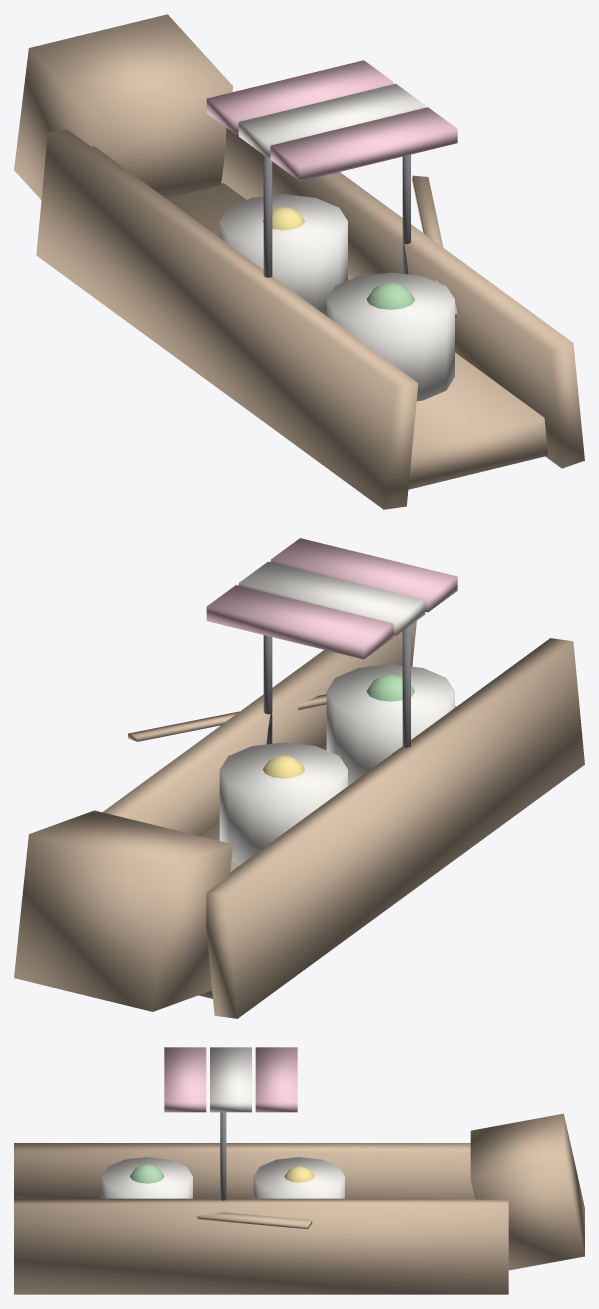
Rendered from floating_market_lv1.glb.
3 renders of one model, top to bottom at view 1: azimuth 30°, elevation 25°; view 2: azimuth 150°, elevation 25°; view 3: azimuth 270°, elevation 25°, orthographic. The views are drawn at different scales.
Visible parts, largest first — view 1: canoe1_wall_l, canoe1_bow, canoe1_wall_r, canoe1_floor, canoe1_bsk1, canoe1_bsk2, canoe1_shade_str_0, canoe1_shade_str_2, canoe1_shade_str_1, canoe1_shade_p1, canoe1_paddle, canoe1_frt1 (+2 smaller); view 2: canoe1_wall_l, canoe1_bow, canoe1_wall_r, canoe1_bsk2, canoe1_bsk1, canoe1_shade_str_2, canoe1_shade_str_1, canoe1_shade_str_0, canoe1_paddle, canoe1_shade_p1, canoe1_shade_p2, canoe1_frt1 (+1 smaller); view 3: canoe1_wall_r, canoe1_wall_l, canoe1_bow, canoe1_bsk2, canoe1_bsk1, canoe1_shade_str_0, canoe1_shade_str_2, canoe1_shade_str_1, canoe1_paddle, canoe1_shade_p2, canoe1_frt1, canoe1_frt2.
Boxes of the visible parts, x1,y1,x2,y2 form: canoe1_wall_l: [36, 129, 418, 509]; canoe1_bow: [14, 14, 233, 199]; canoe1_wall_r: [221, 128, 584, 468]; canoe1_floor: [166, 183, 548, 489]; canoe1_bsk1: [326, 272, 454, 401]; canoe1_bsk2: [219, 194, 347, 315]; canoe1_shade_str_0: [270, 107, 457, 181]; canoe1_shade_str_2: [206, 60, 393, 134]; canoe1_shade_str_1: [238, 83, 425, 157]; canoe1_shade_p1: [263, 155, 272, 277]; canoe1_paddle: [412, 175, 457, 316]; canoe1_frt1: [366, 282, 414, 309]; canoe1_wall_l: [206, 638, 584, 1018]; canoe1_bow: [14, 810, 232, 1011]; canoe1_wall_r: [103, 621, 416, 836]; canoe1_bsk2: [219, 742, 347, 865]; canoe1_bsk1: [326, 664, 454, 785]; canoe1_shade_str_2: [206, 585, 393, 659]; canoe1_shade_str_1: [238, 561, 425, 635]; canoe1_shade_str_0: [270, 538, 457, 612]; canoe1_paddle: [128, 694, 326, 741]; canoe1_shade_p1: [402, 625, 410, 747]; canoe1_shade_p2: [263, 635, 272, 744]; canoe1_frt1: [366, 674, 414, 701]; canoe1_wall_r: [14, 1198, 508, 1294]; canoe1_wall_l: [14, 1143, 474, 1198]; canoe1_bow: [470, 1113, 584, 1270]; canoe1_bsk2: [253, 1157, 344, 1198]; canoe1_bsk1: [101, 1157, 192, 1198]; canoe1_shade_str_0: [164, 1047, 206, 1112]; canoe1_shade_str_2: [255, 1047, 297, 1112]; canoe1_shade_str_1: [210, 1047, 251, 1112]; canoe1_paddle: [196, 1212, 312, 1229]; canoe1_shade_p2: [220, 1112, 226, 1200]; canoe1_frt1: [130, 1164, 164, 1183]; canoe1_frt2: [284, 1166, 314, 1182].
Bounding box in the file's own units: 0.5418 × 0.5419 × 1.5.
